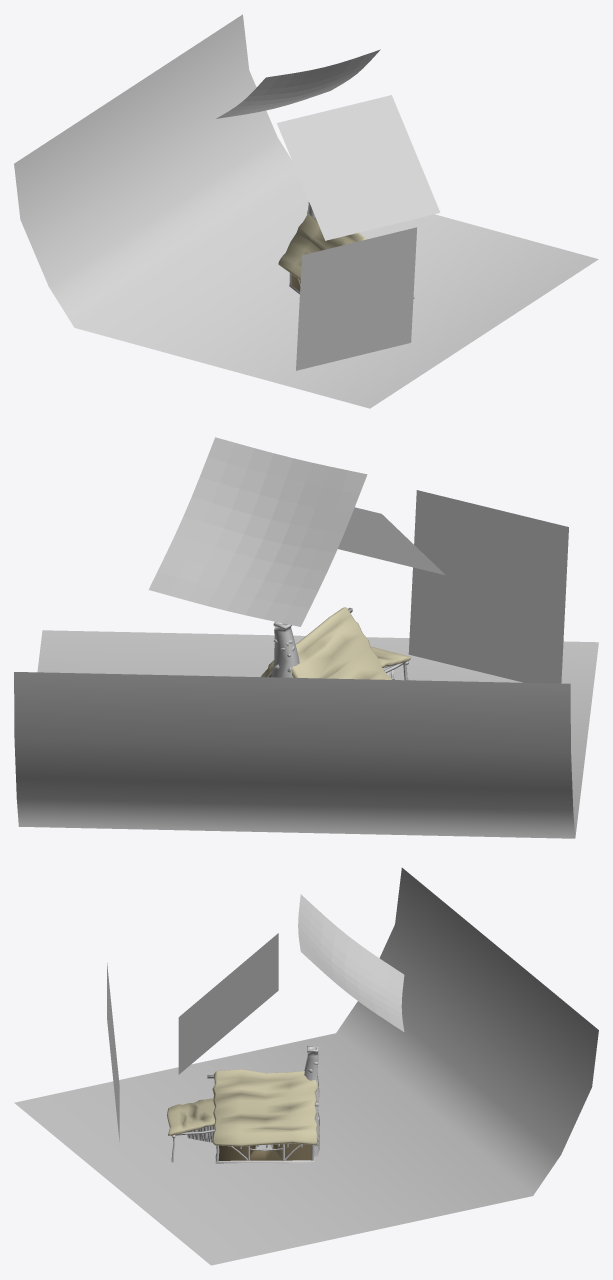
The model's file is house.dae.
The picture shows the model from 3 angles, top to bottom: view 1: azimuth 30°, elevation 25°; view 2: azimuth 150°, elevation 25°; view 3: azimuth 270°, elevation 25°; orthographic projection. The views are drawn at different scales.
Parts seen in each view (by area): view 1: Plane, Plane_004, Plane_001, Plane_003, budynek_001; view 2: Plane, Plane_003, Plane_001, budynek_001, Plane_004, piec; view 3: Plane, budynek_001, Plane_003, Plane_004, wiata_001, budynek_002, Plane_001, budynek, piec.
Part boxes in pixels (left/top/right/bottom): Plane: left=14, top=14, right=598, bottom=408; Plane_004: left=277, top=95, right=440, bottom=240; Plane_001: left=296, top=227, right=417, bottom=370; Plane_003: left=216, top=49, right=380, bottom=118; budynek_001: left=278, top=213, right=366, bottom=280; Plane: left=14, top=630, right=598, bottom=838; Plane_003: left=148, top=437, right=367, bottom=626; Plane_001: left=408, top=490, right=568, bottom=683; budynek_001: left=261, top=607, right=391, bottom=679; Plane_004: left=338, top=507, right=445, bottom=575; piec: left=271, top=622, right=299, bottom=677; Plane: left=14, top=868, right=598, bottom=1265; budynek_001: left=212, top=1069, right=318, bottom=1146; Plane_003: left=298, top=894, right=404, bottom=1031; Plane_004: left=178, top=933, right=278, bottom=1074; wiata_001: left=167, top=1098, right=214, bottom=1135; budynek_002: left=218, top=1143, right=311, bottom=1160; Plane_001: left=107, top=963, right=119, bottom=1141; budynek: left=207, top=1074, right=314, bottom=1163; piec: left=304, top=1046, right=319, bottom=1156.
Size of the model in its own units: 36.26 by 36.34 by 15.62.
